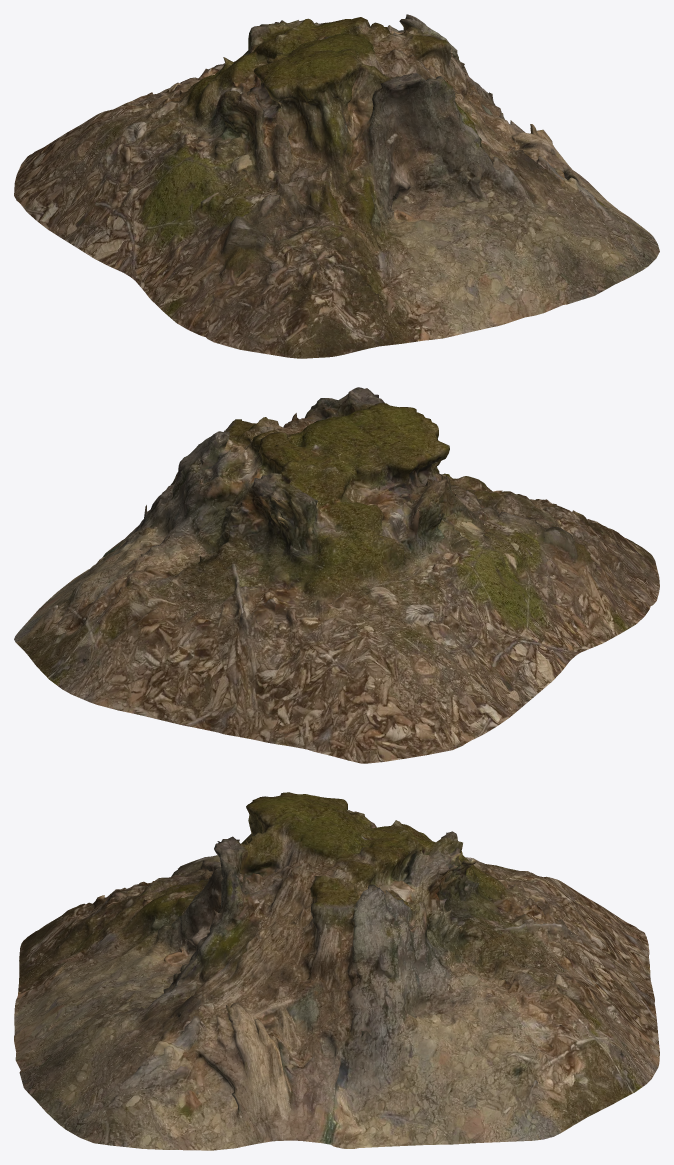
File: tree_stump_01.glb
3 views of the same model, one above another, from view 1: azimuth 30°, elevation 25°; view 2: azimuth 150°, elevation 25°; view 3: azimuth 270°, elevation 25° (orthographic). The views are drawn at different scales.
Parts seen in each view (by area): view 1: tree_stump_01; view 2: tree_stump_01; view 3: tree_stump_01.
Part boxes in pixels (x1,y1,x2,y2): tree_stump_01: [14, 14, 659, 358]; tree_stump_01: [14, 387, 659, 763]; tree_stump_01: [14, 792, 659, 1150].
Size of the model in its own units: 1.43 by 0.5725 by 1.59.
Materials: 1 (1 with a texture image).
